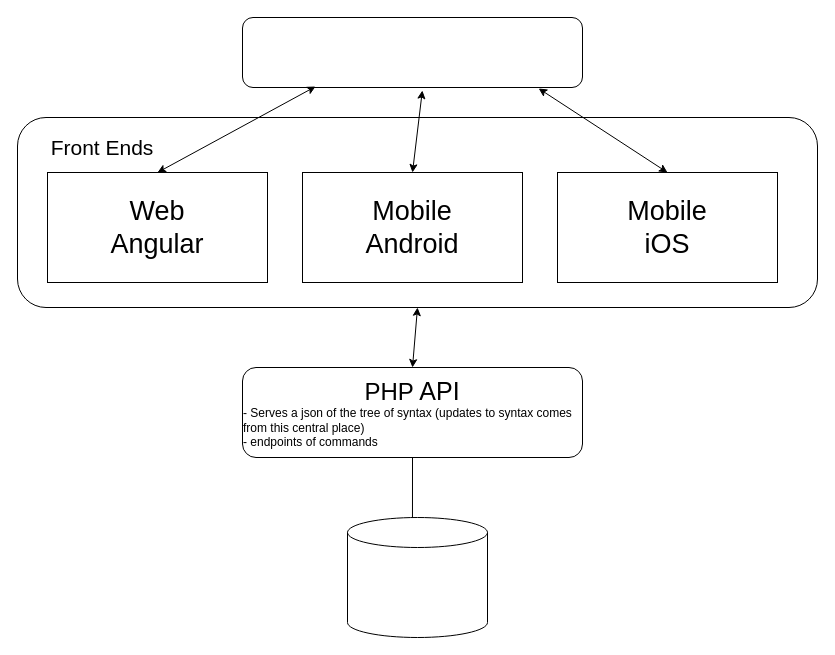
Some shapes in this 835 by 655 pixel diagram are drawn without their labels. The shapes that lost their labels are listed below. From the top down, each one's box as (x1, y1, x2, y2) in pixels, then its label:
(242, 16, 582, 88): Voice to text API
(346, 516, 488, 638): MySql
